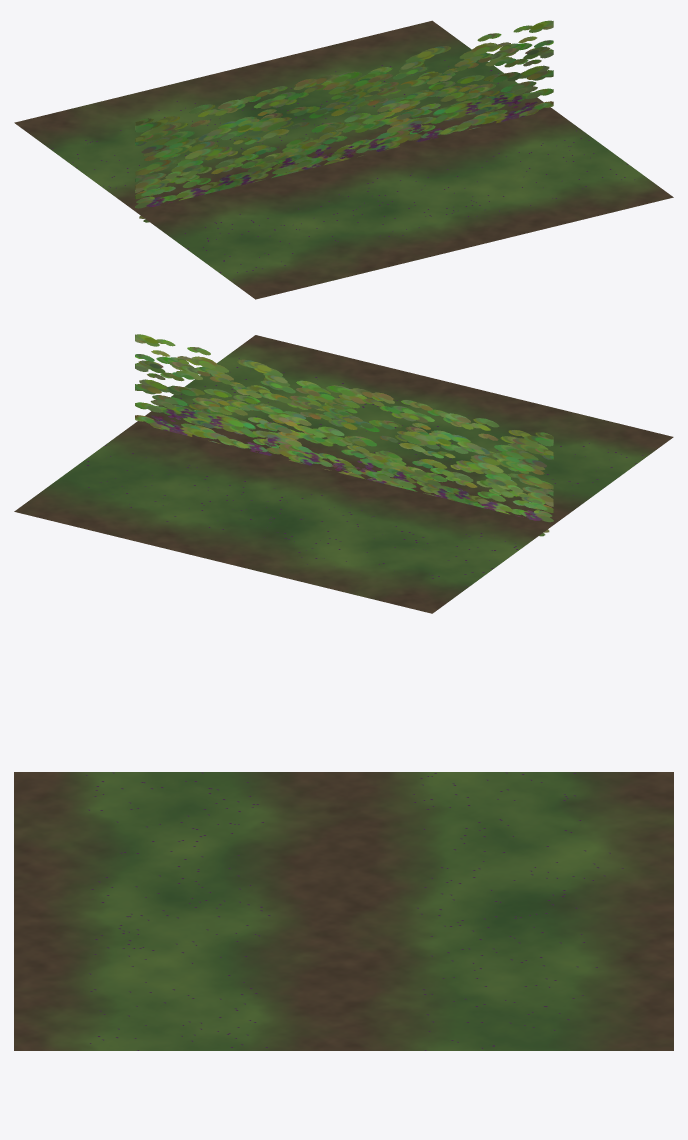
Rendered from Crop_Vine_1_LOD2.gltf.
3 views of the same model, one above another, from view 1: azimuth 30°, elevation 25°; view 2: azimuth 150°, elevation 25°; view 3: azimuth 270°, elevation 25° (orthographic). The views are drawn at different scales.
Visible parts, largest first — view 1: Crop_Vine_1_LOD2; view 2: Crop_Vine_1_LOD2; view 3: Crop_Vine_1_LOD2.
Boxes of the visible parts, x1=… form: Crop_Vine_1_LOD2: x1=14, y1=20, x2=673, y2=299; Crop_Vine_1_LOD2: x1=14, y1=334, x2=673, y2=613; Crop_Vine_1_LOD2: x1=14, y1=772, x2=673, y2=1050.
Size of the model in its own units: 4 by 1.37 by 4.
Materials: 2 (2 with a texture image).
